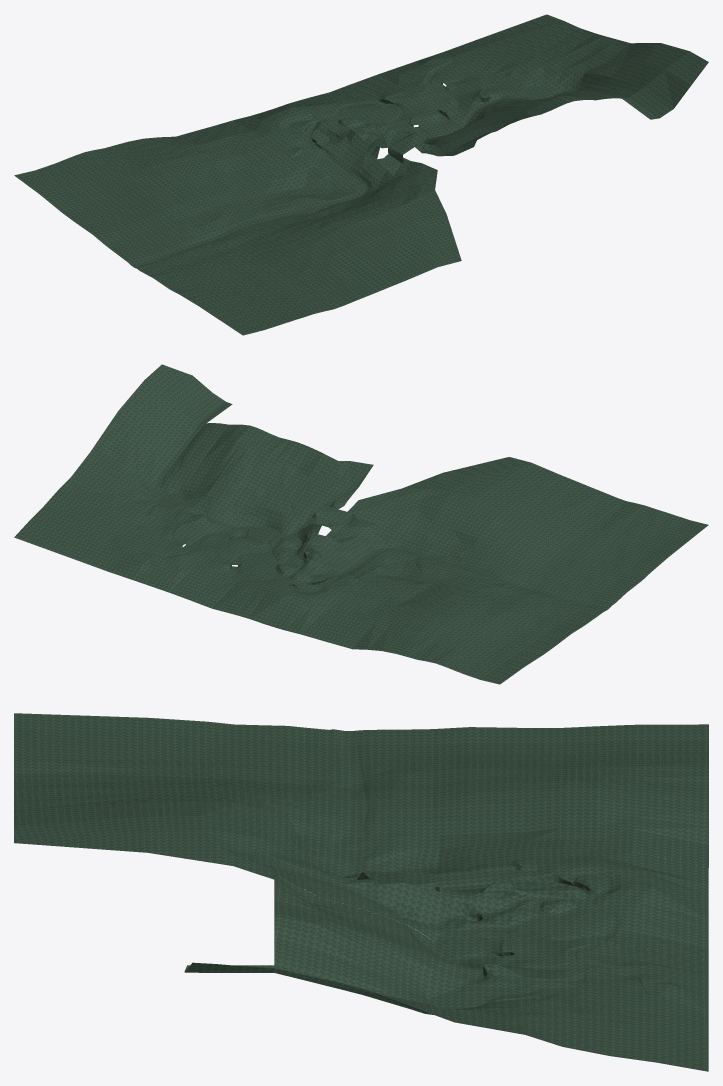
The model's file is RuiMap.fbx.
3 renders of one model, top to bottom at view 1: azimuth 30°, elevation 25°; view 2: azimuth 150°, elevation 25°; view 3: azimuth 270°, elevation 25°, orthographic. The views are drawn at different scales.
Parts seen in each view (by area): view 1: SM_a_005_GroundSub_01a.mo, SM_a_005_GroundSub_02a.mo, SM_a_005_GroundSub_02b.mo; view 2: SM_a_005_GroundSub_01a.mo, SM_a_005_GroundSub_02a.mo, SM_a_005_GroundSub_02b.mo; view 3: SM_a_005_GroundSub_01a.mo, SM_a_005_GroundSub_02a.mo, SM_a_005_GroundSub_02b.mo.
Boxes of the visible parts, x1,y1,x2,y2 form: SM_a_005_GroundSub_01a.mo: [14, 127, 461, 335]; SM_a_005_GroundSub_02a.mo: [352, 14, 708, 136]; SM_a_005_GroundSub_02b.mo: [209, 84, 493, 192]; SM_a_005_GroundSub_01a.mo: [322, 457, 708, 684]; SM_a_005_GroundSub_02a.mo: [14, 364, 322, 600]; SM_a_005_GroundSub_02b.mo: [192, 453, 408, 640]; SM_a_005_GroundSub_01a.mo: [14, 713, 708, 887]; SM_a_005_GroundSub_02a.mo: [184, 873, 708, 1071]; SM_a_005_GroundSub_02b.mo: [250, 848, 708, 960].
Size of the model in its own units: 19570 by 3737 by 14567.
1 material, 1 textured.
